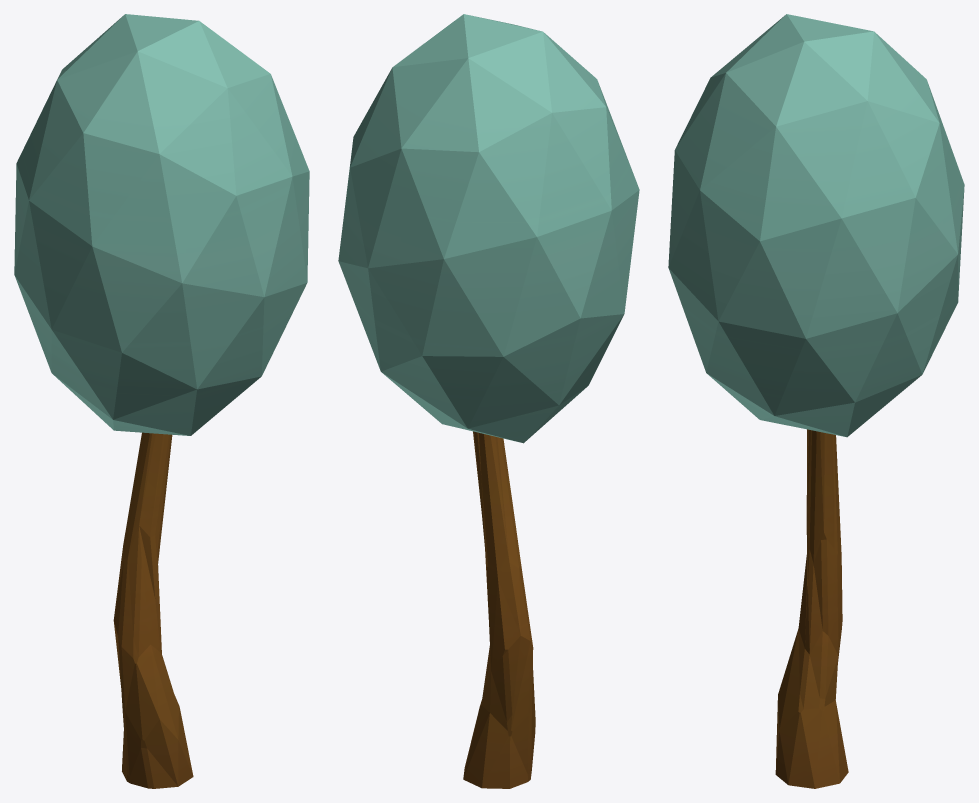
File: tree_poplar.glb
3 renders of one model, left to right at view 1: azimuth 30°, elevation 25°; view 2: azimuth 150°, elevation 25°; view 3: azimuth 270°, elevation 25°, orthographic.
Visible parts, largest first — view 1: Poplar Tree_4_AA; view 2: Poplar Tree_4_AA; view 3: Poplar Tree_4_AA.
Boxes of the visible parts, x1,y1,x2,y2 form: Poplar Tree_4_AA: (14,14,309,788); Poplar Tree_4_AA: (338,14,639,788); Poplar Tree_4_AA: (668,14,964,788).
Bounding box in the file's own units: 1.56 × 4.36 × 1.56.
Materials: 1 (1 with a texture image).
